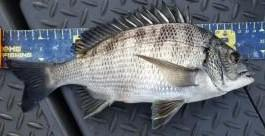fish: (6, 1, 256, 130)
